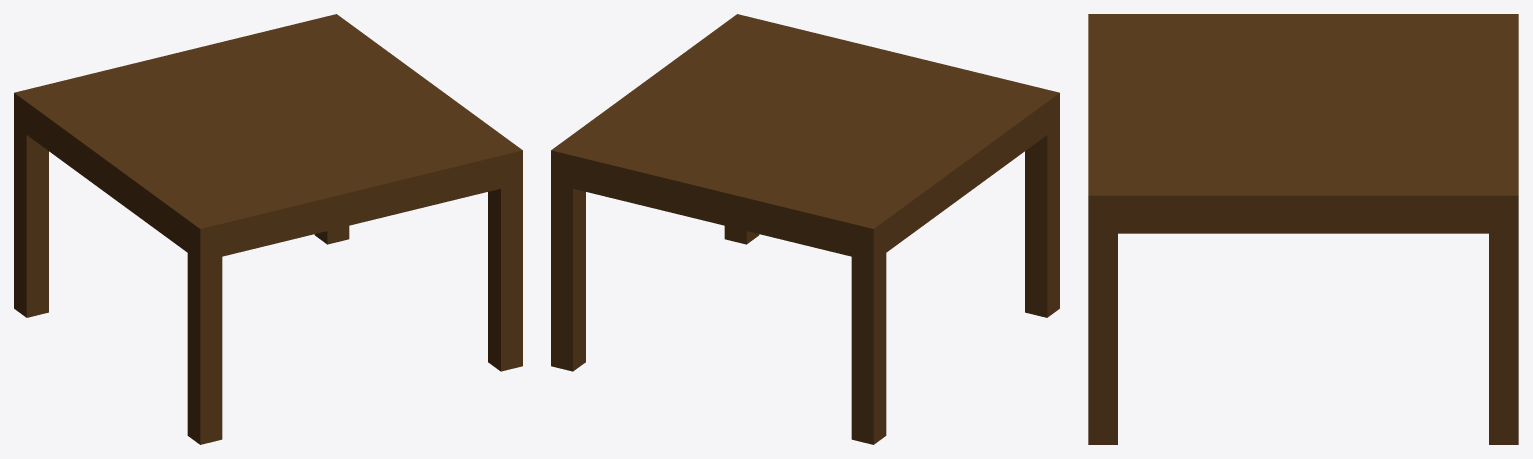
Rendered from Table.fbx.
3 renders of one model, left to right at view 1: azimuth 30°, elevation 25°; view 2: azimuth 150°, elevation 25°; view 3: azimuth 270°, elevation 25°, orthographic. The views are drawn at different scales.
Visible parts, largest first — view 1: Table; view 2: Table; view 3: Table.
Part boxes in pixels (x1=…): Table: x1=14, y1=14, x2=522, y2=444; Table: x1=551, y1=14, x2=1059, y2=444; Table: x1=1088, y1=14, x2=1518, y2=444.
Bounding box in the file's own units: 738 × 472 × 738.
